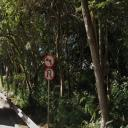NoVirarEsquerda: (44, 54, 54, 68)
NoVirarU: (44, 68, 54, 80)
